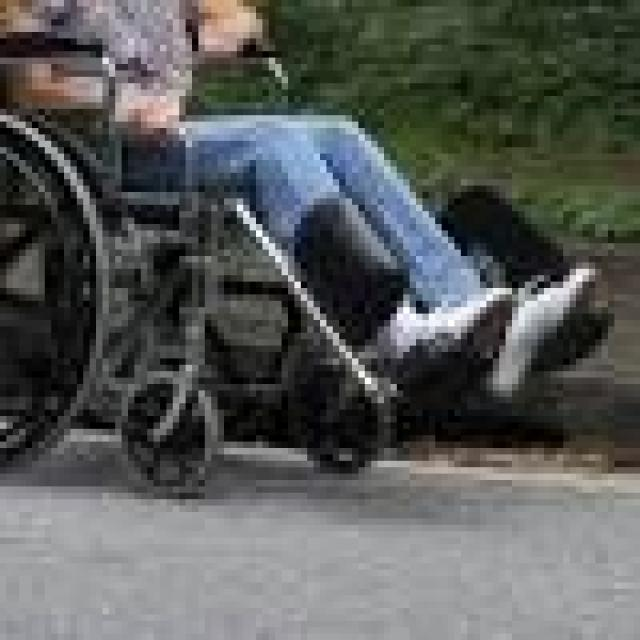wheelchairs: (13, 39, 563, 532)
